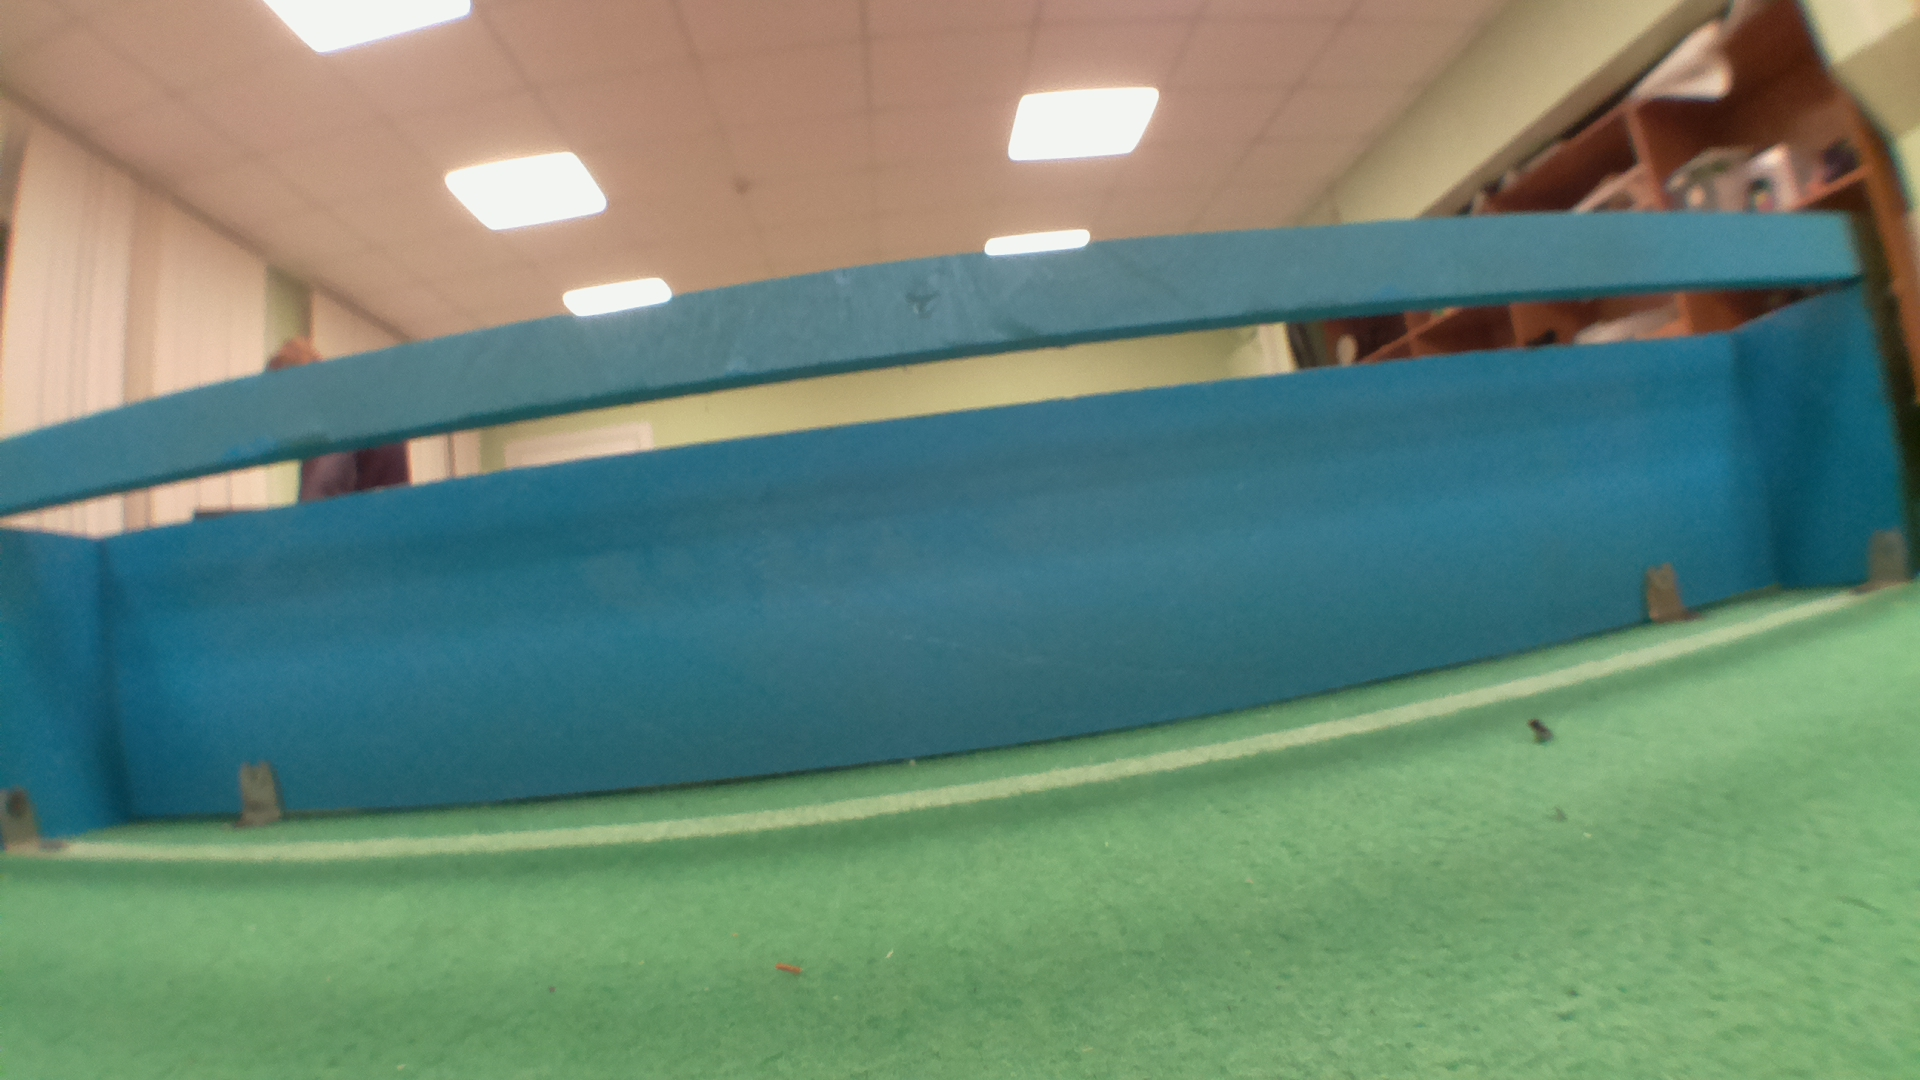BlueGoal: (37, 361, 1866, 752)
